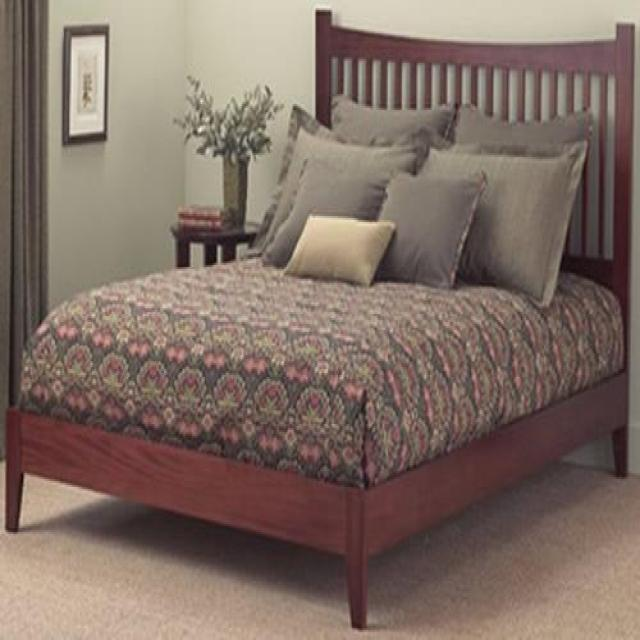bed: (5, 5, 636, 638)
